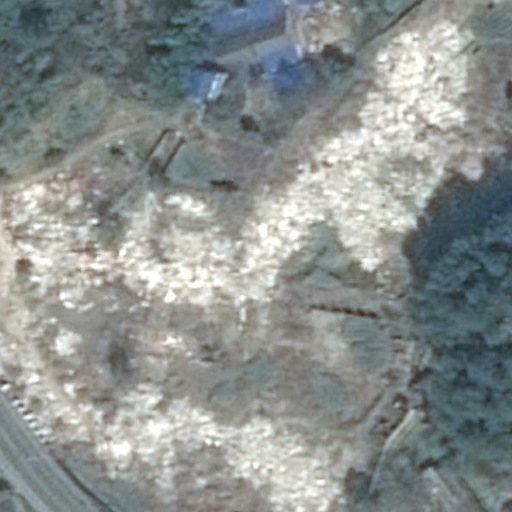msw: (32, 25, 474, 512)
